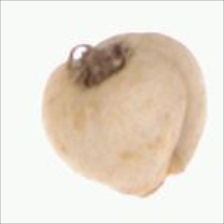L3: (134, 151, 191, 198)
L4: (42, 31, 208, 198)
